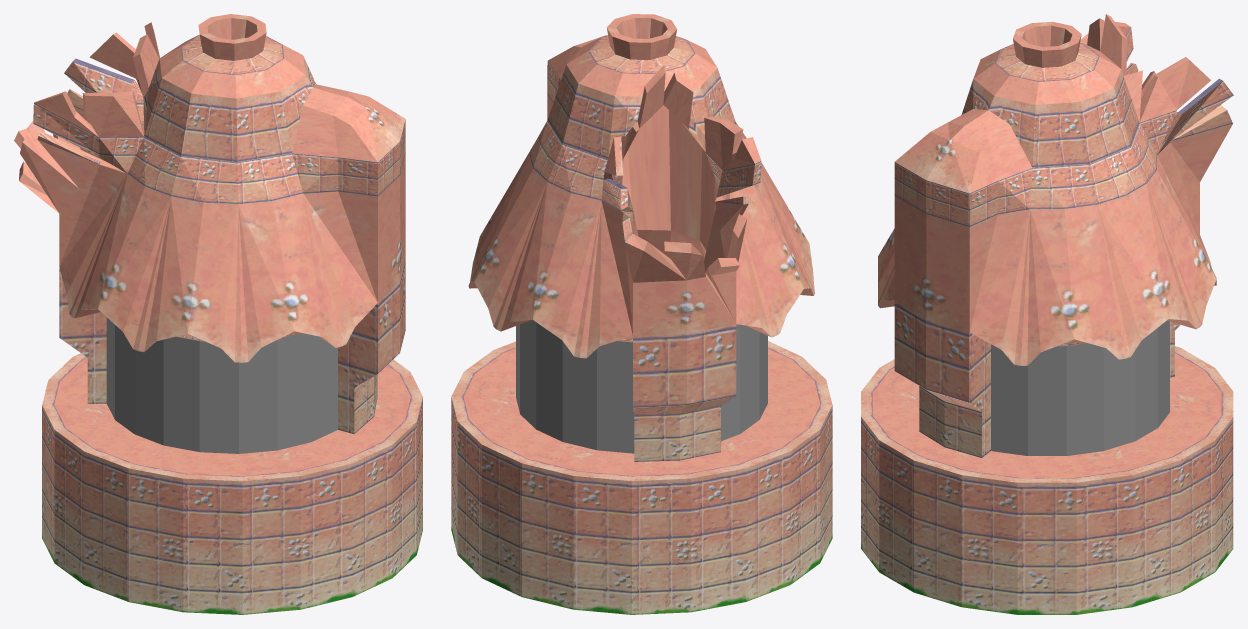
The model's file is sandeggbroken.dae.
3 views of the same model, side by side, from view 1: azimuth 30°, elevation 25°; view 2: azimuth 150°, elevation 25°; view 3: azimuth 270°, elevation 25° (orthographic).
Visible parts, largest first — view 1: m2, m1; view 2: m2, m1; view 3: m2, m1.
Boxes of the visible parts, x1,y1,x2,y2 form: m2: (14,14,422,614); m1: (106,317,337,453); m2: (451,14,832,614); m1: (516,320,767,453); m2: (861,14,1233,614); m1: (991,320,1169,455).
Size of the model in its own units: 2554 by 3782 by 2557.
3 materials, 3 textured.
